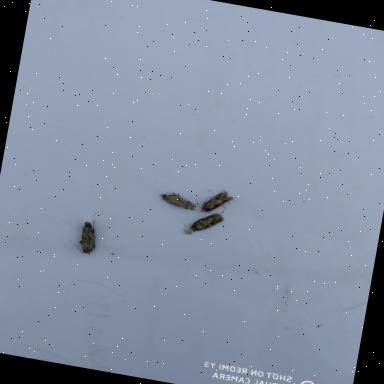pbw: (64, 204, 108, 258), (198, 184, 238, 220), (185, 206, 227, 238), (156, 188, 202, 214)
